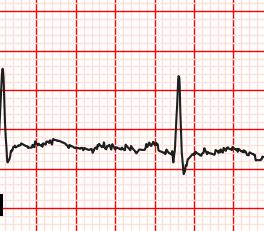ST Depression: (170, 148, 193, 180)
